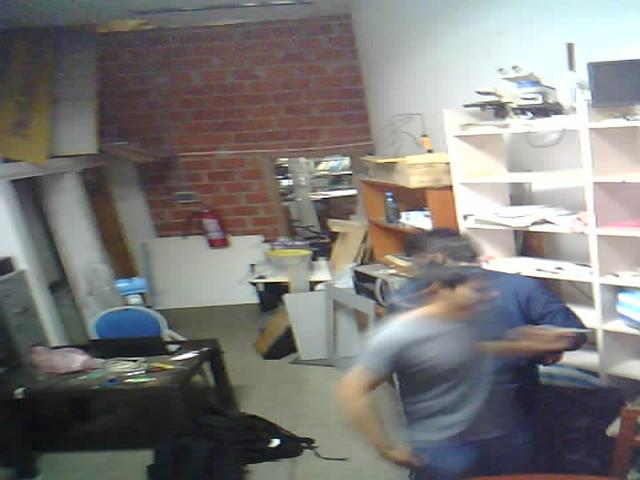person: (329, 266, 576, 480), (355, 192, 607, 383)
